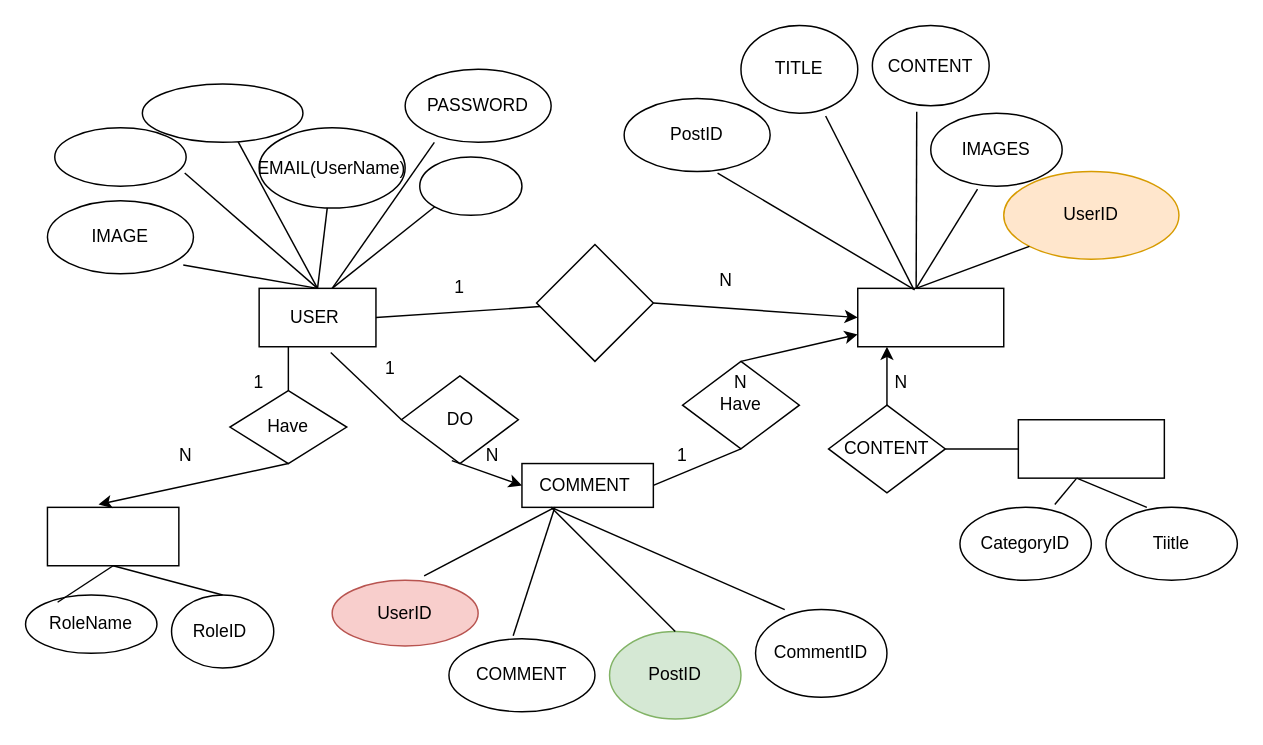
The diagram is 1263 pixels wide and 745 high, and some of its shapes have lost their labels. The centre of each missing label's shape, as x and y in pixels:
ABOUT: the point at 470,185
CA CREATE: the point at 594,302
CATEGORY: the point at 1090,448
ID: the point at 119,156
NAME: the point at 222,112
POST: the point at 930,317
ROLE: the point at 112,536
